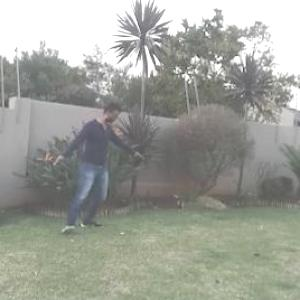land: (31, 86, 164, 250)
